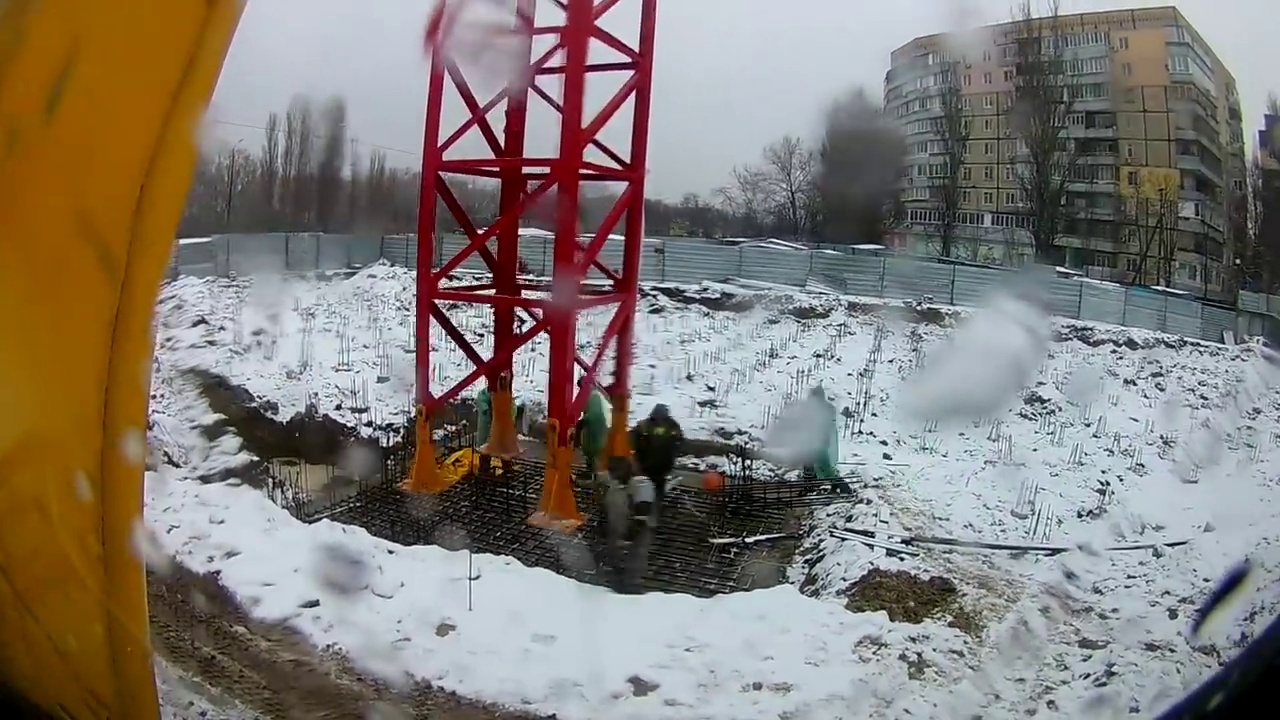helmet: (700, 472, 725, 491)
helmet-off: (646, 399, 671, 439)
person: (626, 405, 688, 554), (800, 389, 848, 504), (479, 377, 515, 499), (575, 376, 610, 488)
